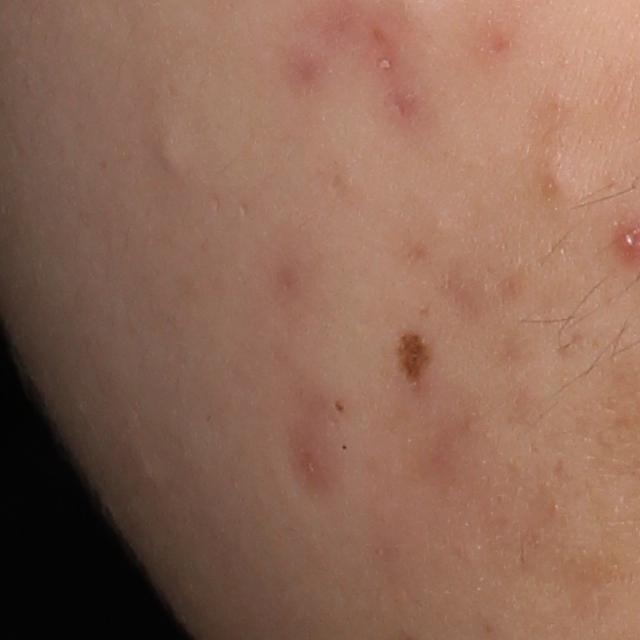comedo: (531, 159, 584, 205), (156, 130, 197, 179), (331, 398, 349, 415), (338, 441, 351, 453)
nevus: (393, 329, 435, 391)
